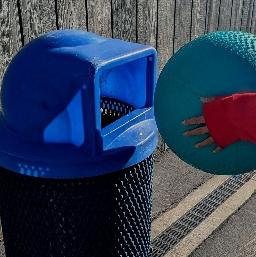algae: (154, 31, 256, 178)
